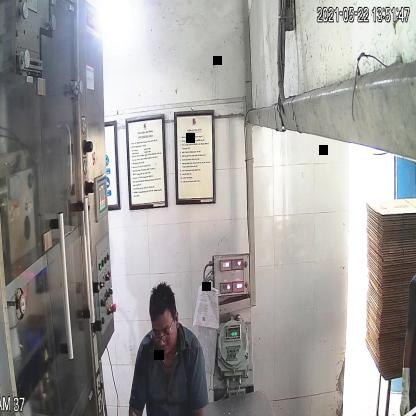goggles: (150, 320, 176, 348)
